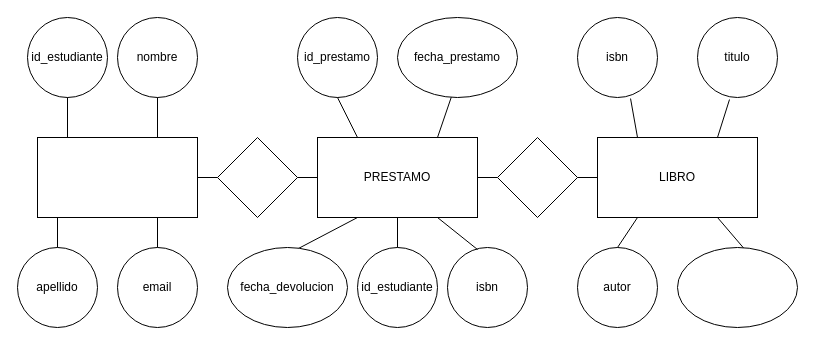
The diagram is 815 pixels wide and 345 high, and some of its shapes have lost their labels. Each missing label, with the centre of its shape:
anio_publicacon: the point at 737,287
Contiene: the point at 537,177
ESTUDIANTE: the point at 117,177
Realiza: the point at 257,177
